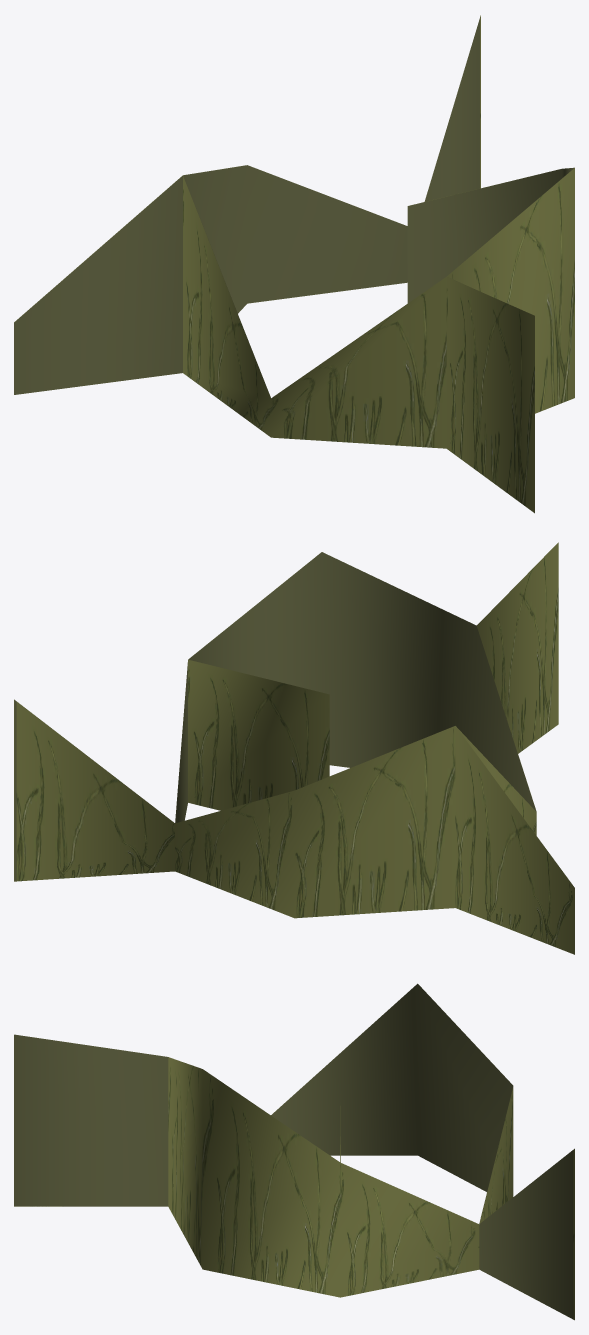
File: mveg1am.glb
3 renders of one model, top to bottom at view 1: azimuth 30°, elevation 25°; view 2: azimuth 150°, elevation 25°; view 3: azimuth 270°, elevation 25°, orthographic. The views are drawn at different scales.
Visible parts, largest first — view 1: 01 Mesh0, 01 Mesh0.001; view 2: 01 Mesh0, 01 Mesh0.001; view 3: 01 Mesh0.001, 01 Mesh0.
Part boxes in pixels (<box>): 01 Mesh0: <box>14,15,574,513</box>; 01 Mesh0.001: <box>14,18,574,394</box>; 01 Mesh0: <box>14,542,574,954</box>; 01 Mesh0.001: <box>14,552,536,881</box>; 01 Mesh0.001: <box>14,984,573,1318</box>; 01 Mesh0: <box>14,984,574,1320</box>.
Bounding box in the file's own units: 10.03 × 4.1 × 10.41.
2 materials, 1 textured.
